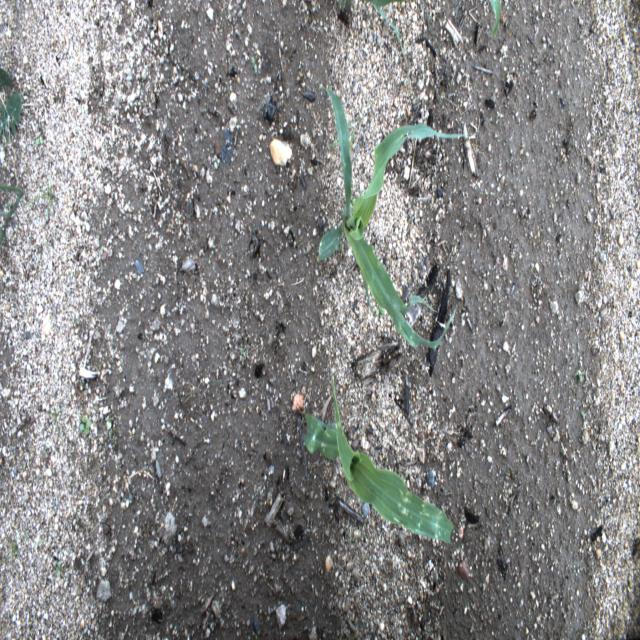crop: (317, 87, 473, 351), (302, 357, 453, 543), (341, 0, 416, 99), (490, 0, 500, 41)
weed: (325, 92, 371, 149), (0, 68, 23, 146), (0, 184, 25, 246), (25, 166, 52, 220), (0, 533, 28, 565), (48, 406, 62, 440), (78, 414, 92, 436), (102, 424, 115, 442), (573, 371, 586, 383), (376, 302, 384, 315), (56, 561, 62, 577), (251, 56, 257, 72), (349, 196, 356, 208), (214, 158, 220, 170), (358, 188, 365, 198), (36, 537, 42, 548), (35, 138, 44, 145), (240, 347, 245, 359), (580, 410, 586, 420), (338, 197, 341, 205)
